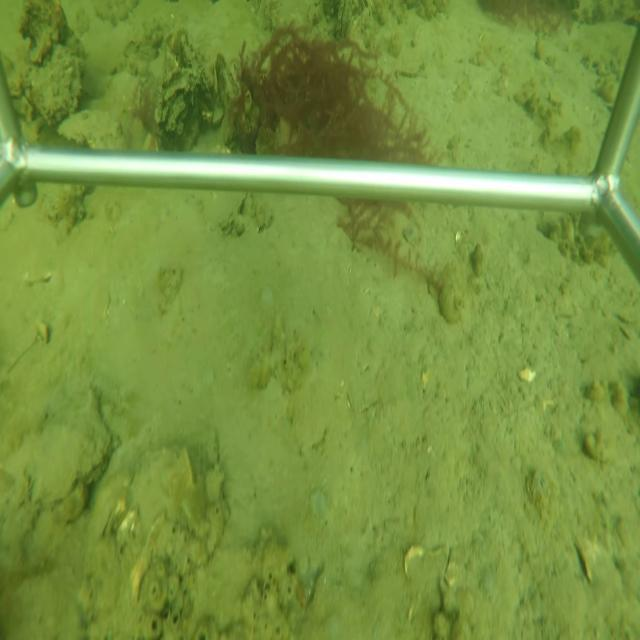Oyster-Closed: (0, 383, 121, 513)
Oyster-Indeterminate: (117, 445, 229, 593)
